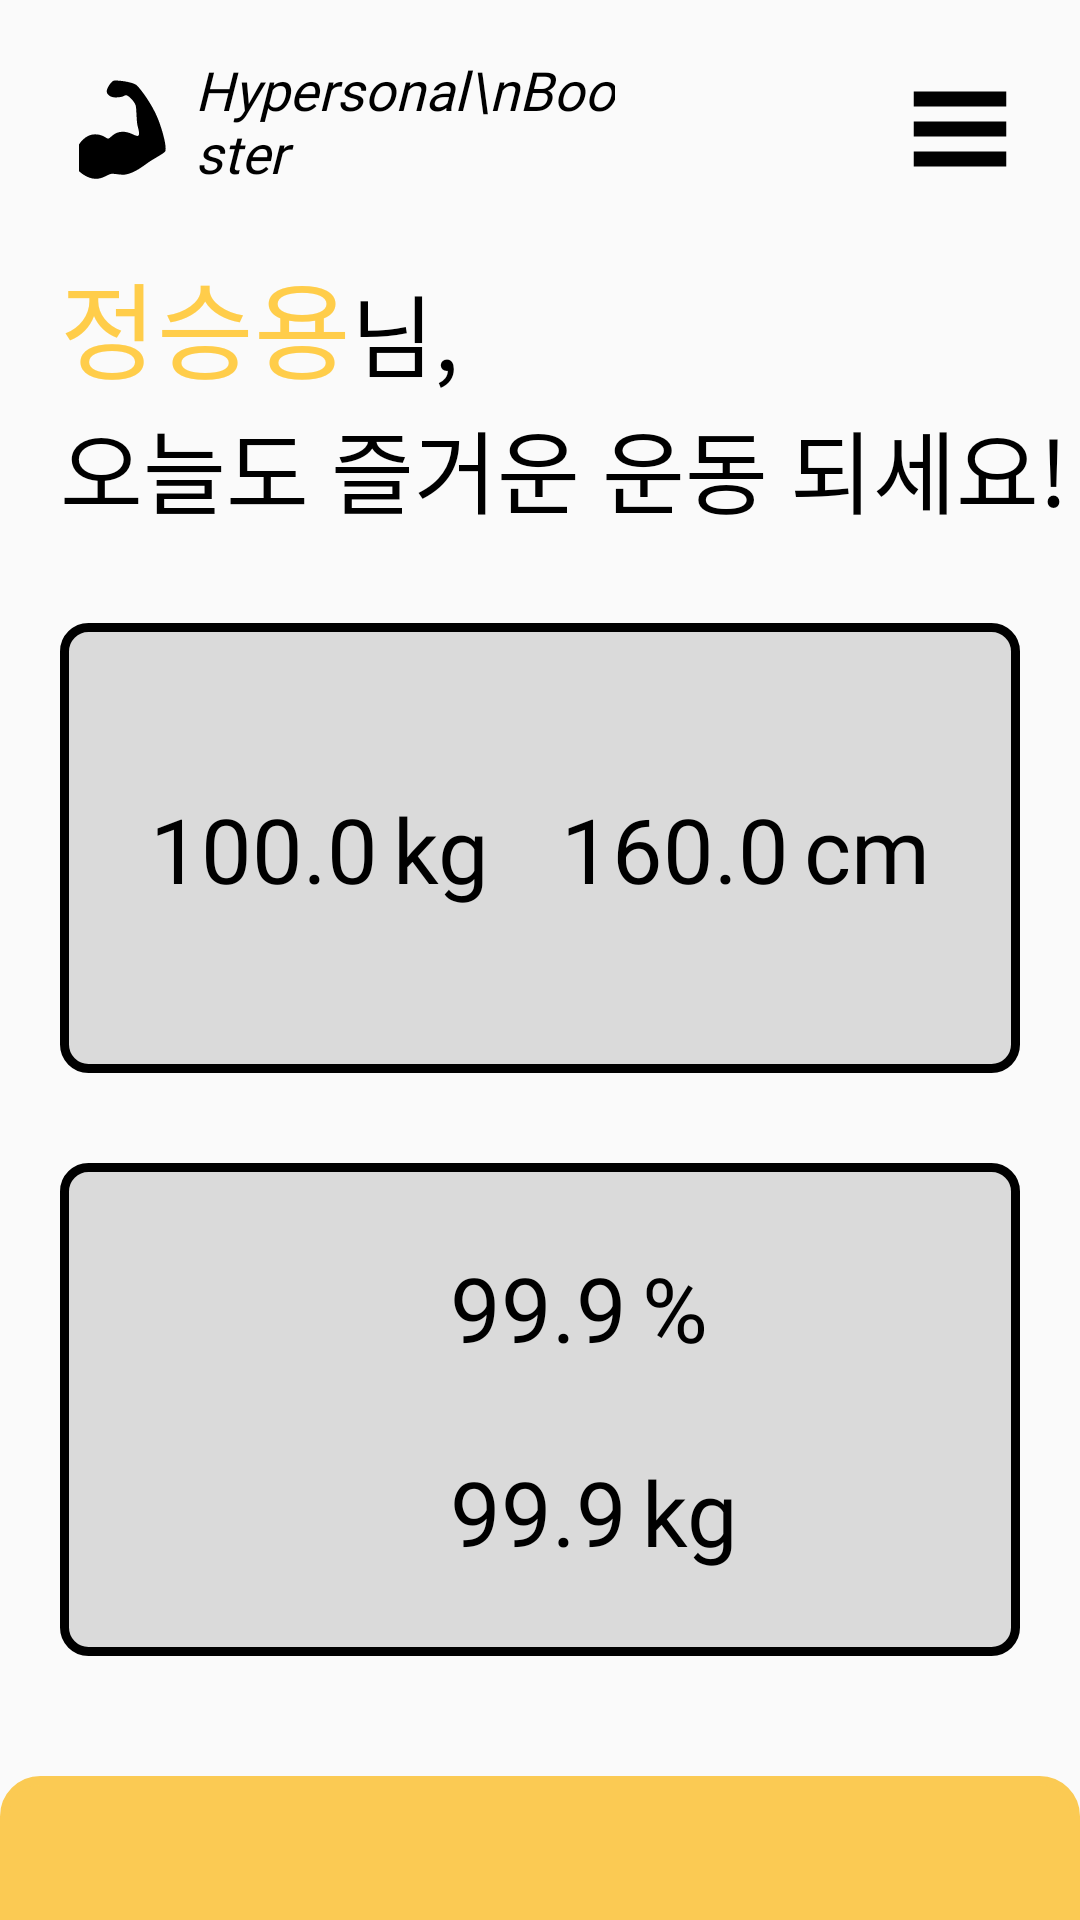

Named icons in this screenshot (1080w x 1920h) and their centers, (x,y):
list: (960,129)
